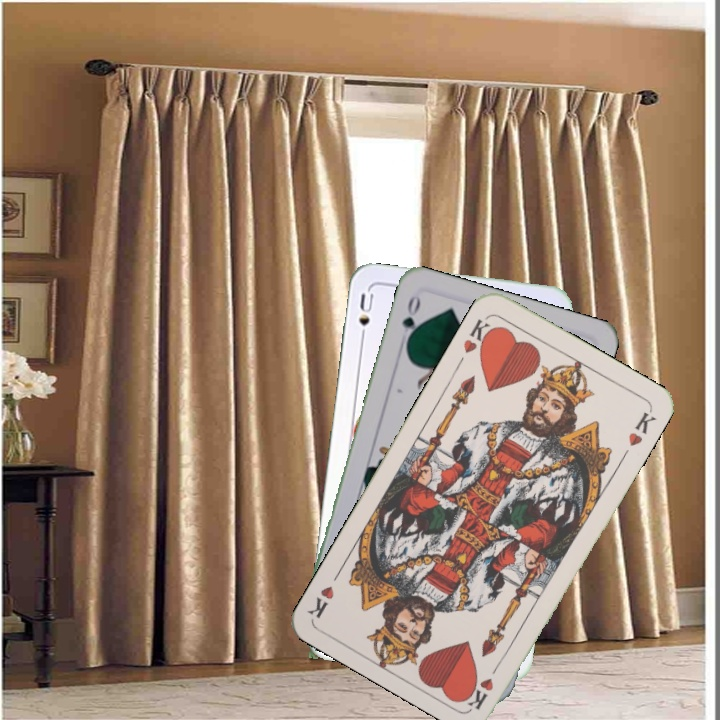GO: (395, 292, 424, 350)
HK: (464, 656, 504, 712), (459, 313, 498, 357)
SU: (354, 288, 376, 346)
